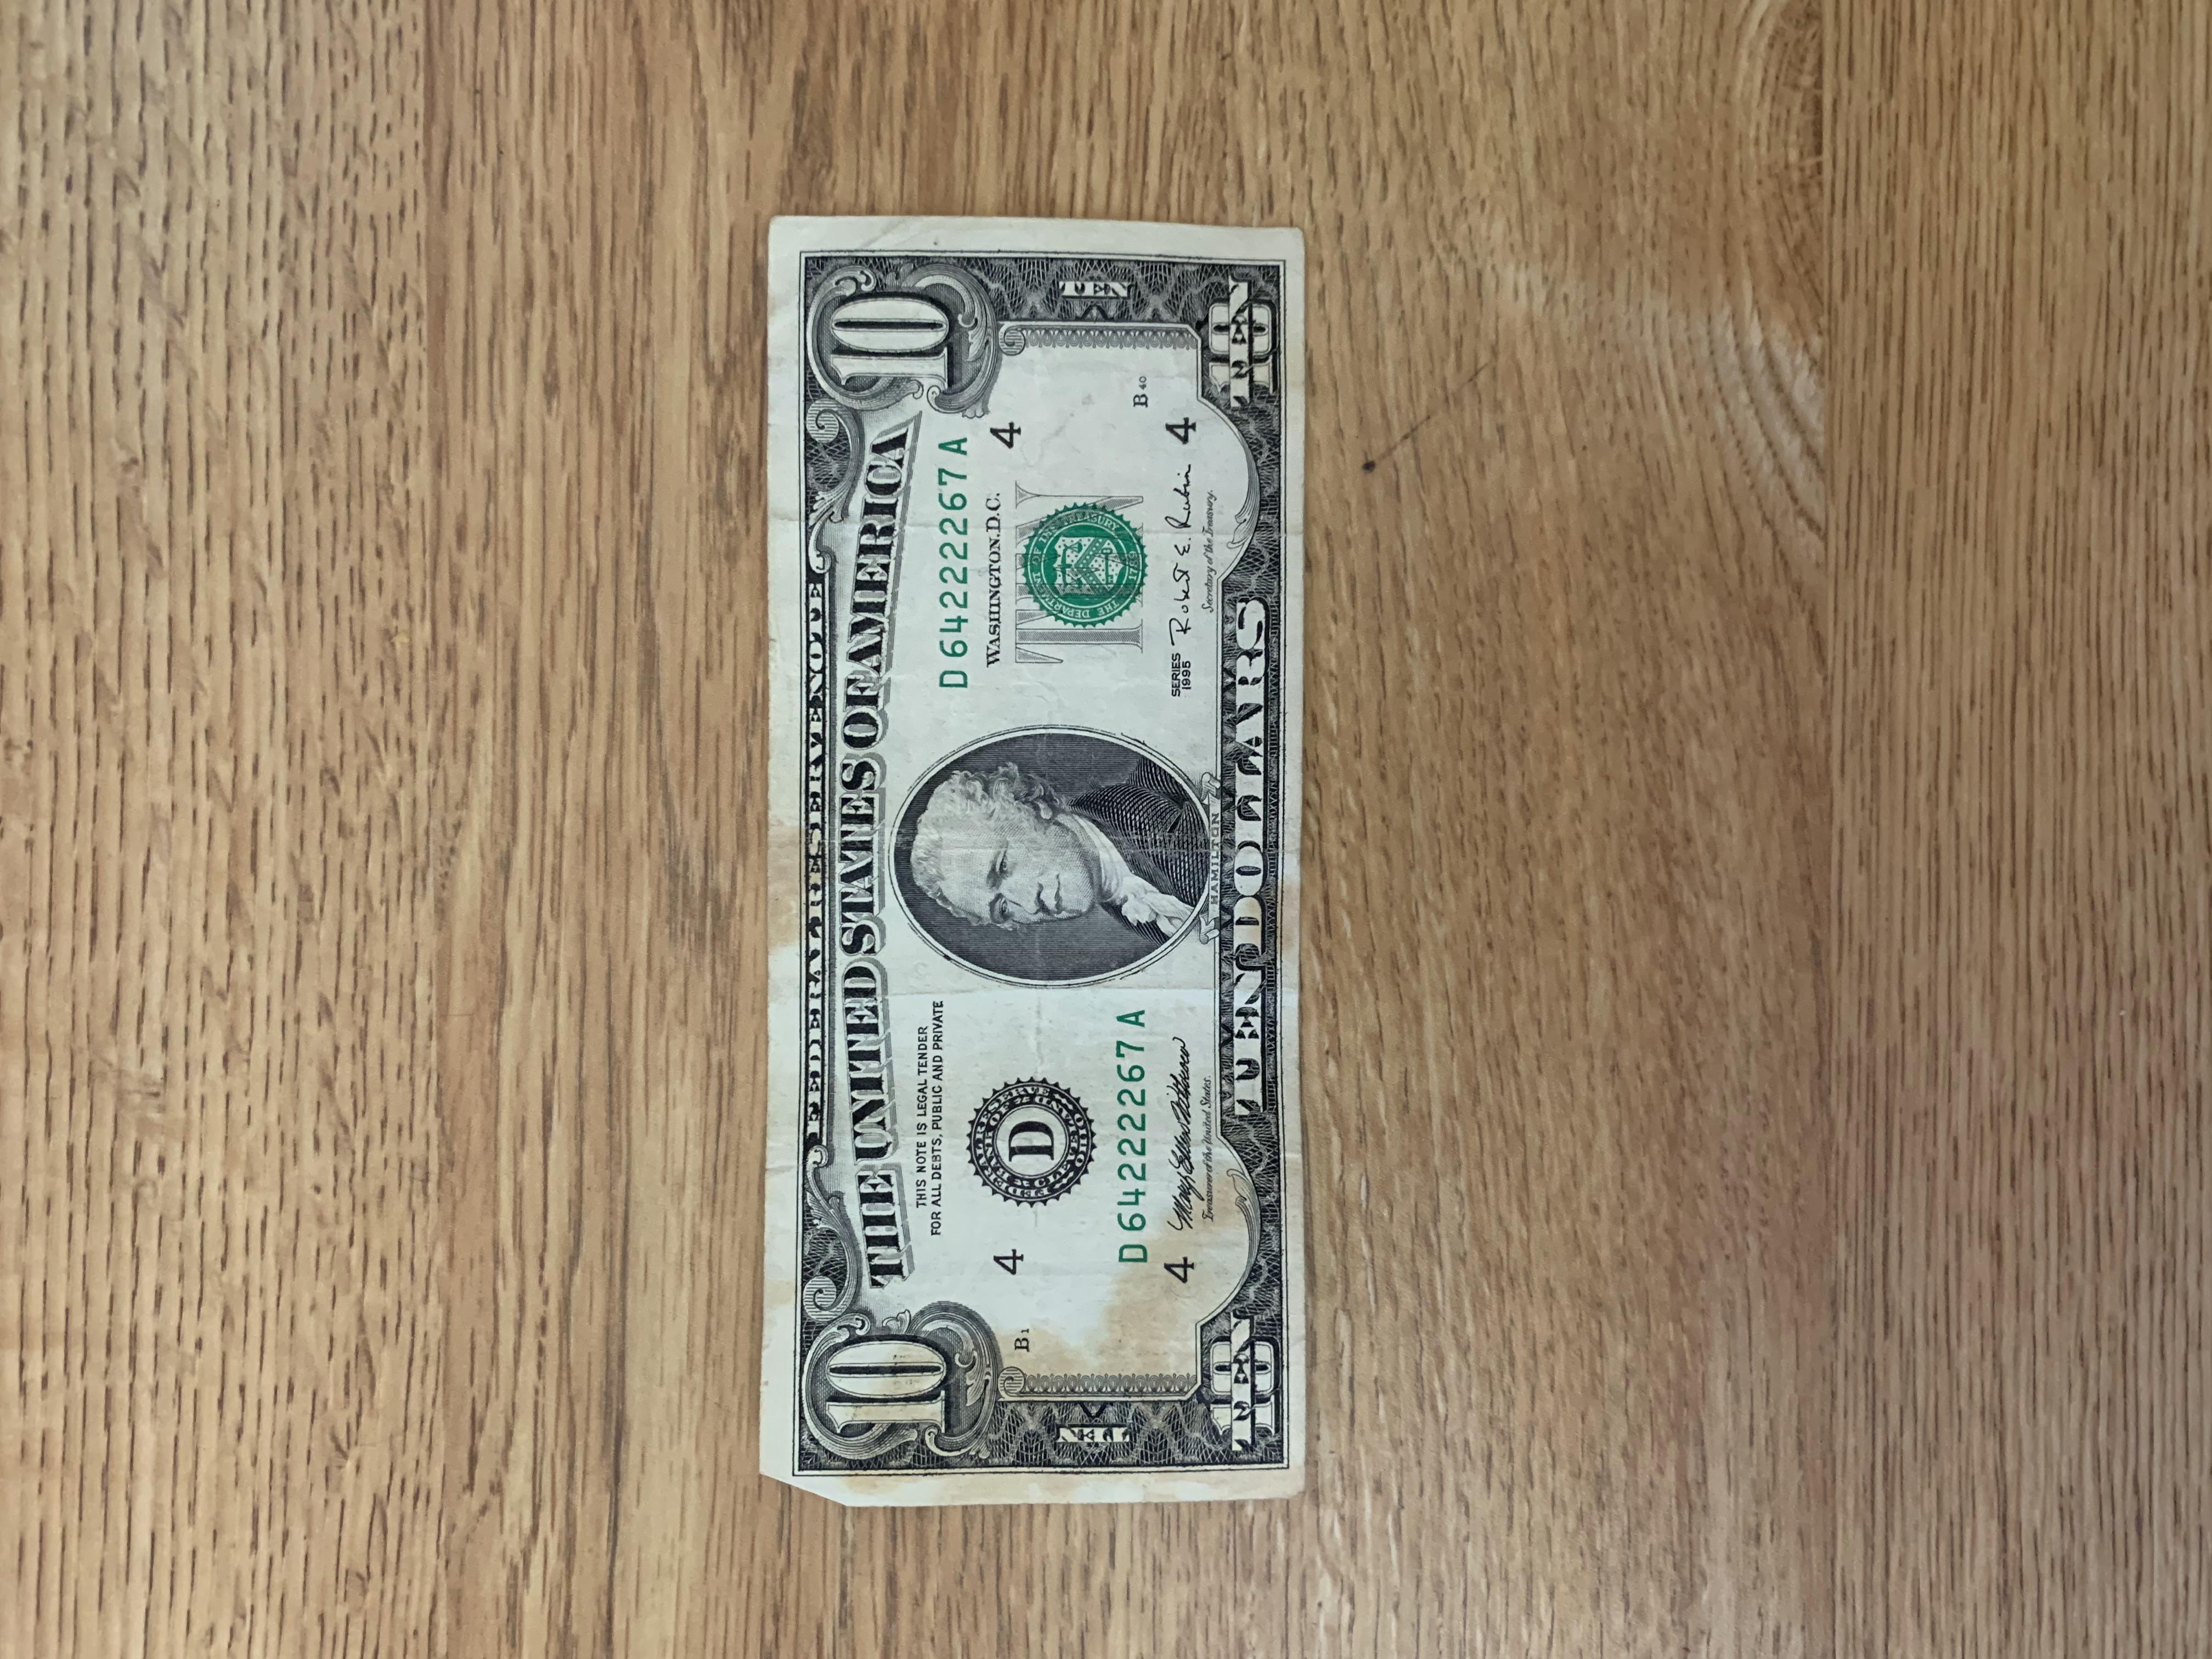TenBill: (754, 192, 1318, 1513)
